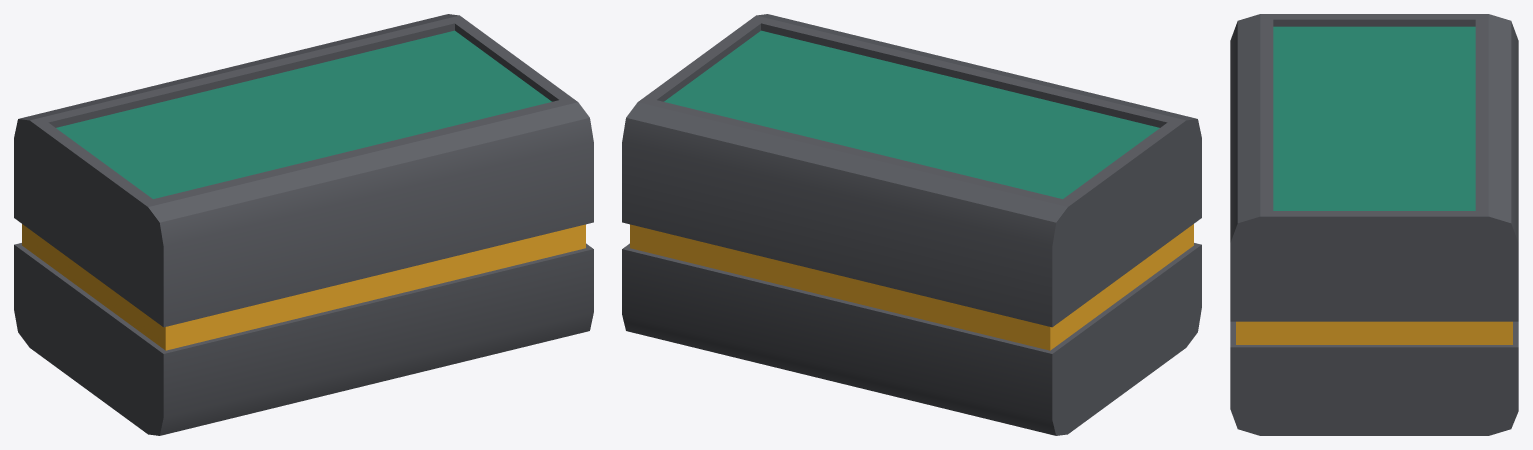
File: FlowerBed1.fbx
The picture shows the model from 3 angles, left to right: view 1: azimuth 30°, elevation 25°; view 2: azimuth 150°, elevation 25°; view 3: azimuth 270°, elevation 25°; orthographic projection. The views are drawn at different scales.
Parts seen in each view (by area): view 1: Flowerbed01; view 2: Flowerbed01; view 3: Flowerbed01.
Part boxes in pixels (box(x1,y1,x2,y2)): Flowerbed01: box(14, 14, 593, 435); Flowerbed01: box(622, 14, 1201, 435); Flowerbed01: box(1230, 14, 1518, 435).
Size of the model in its own units: 53.65 by 27.09 by 32.29.
